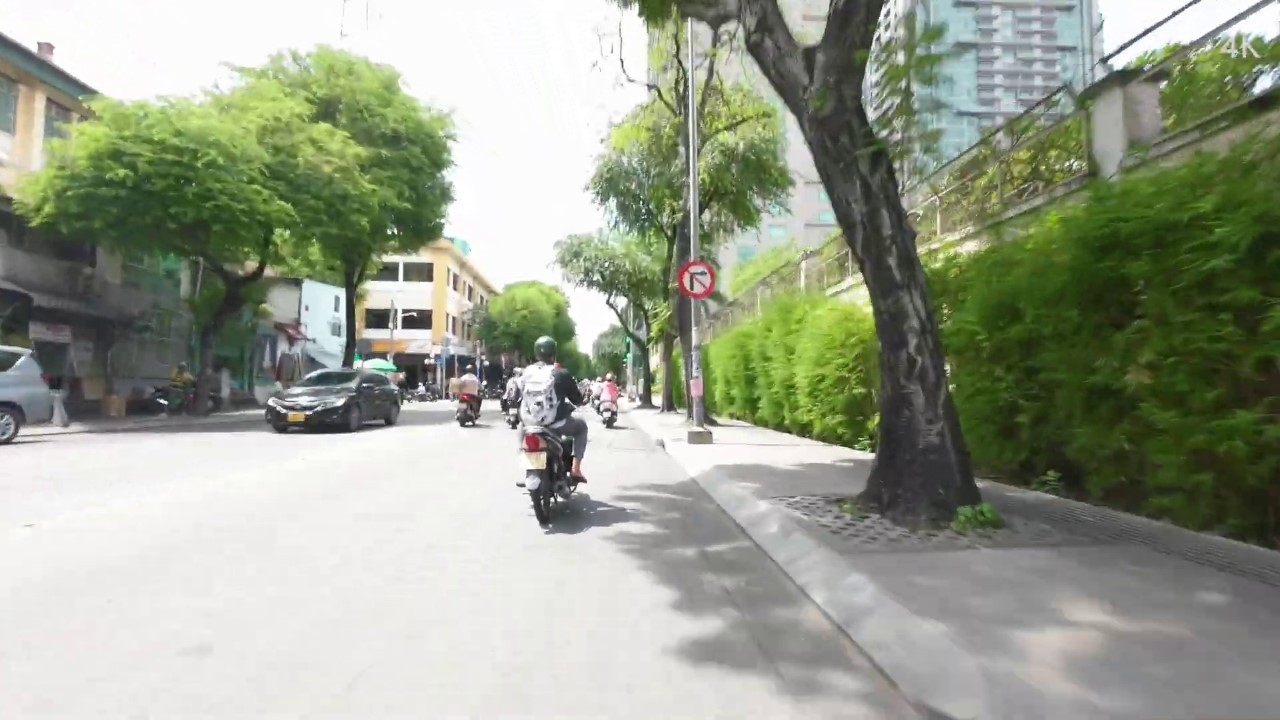cam_re_phai: (677, 261, 716, 300)
